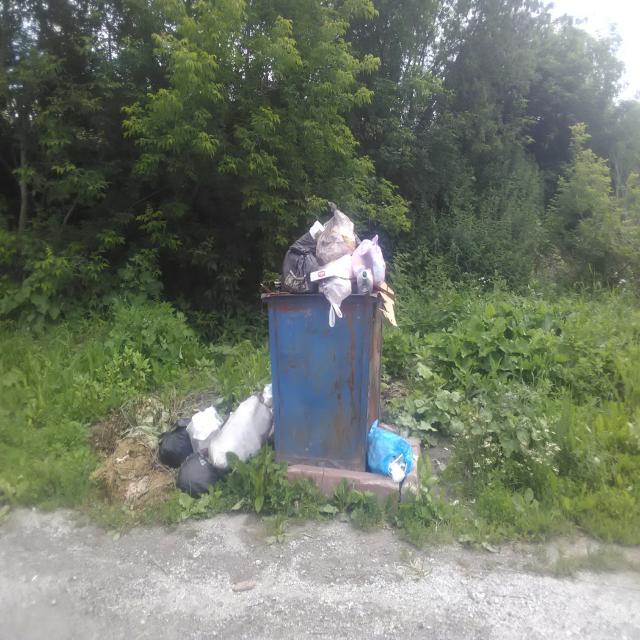bin: (264, 284, 382, 467)
trash: (161, 398, 269, 495), (275, 209, 389, 280), (368, 419, 425, 481)
